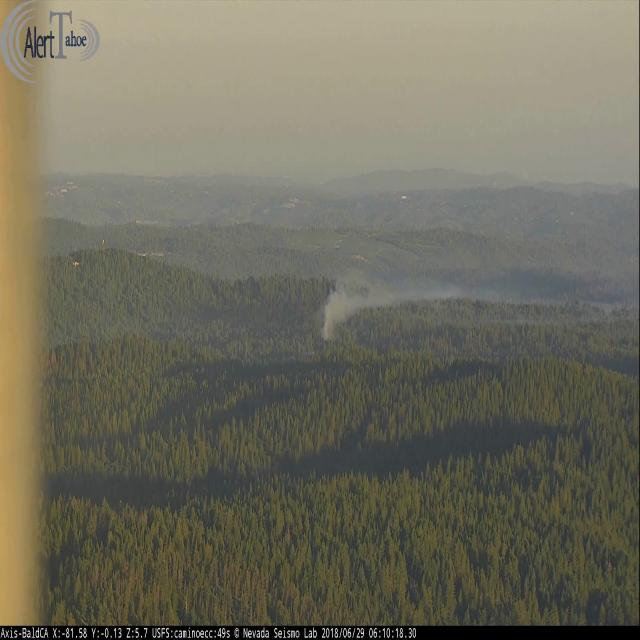smoke: (312, 269, 636, 341)
